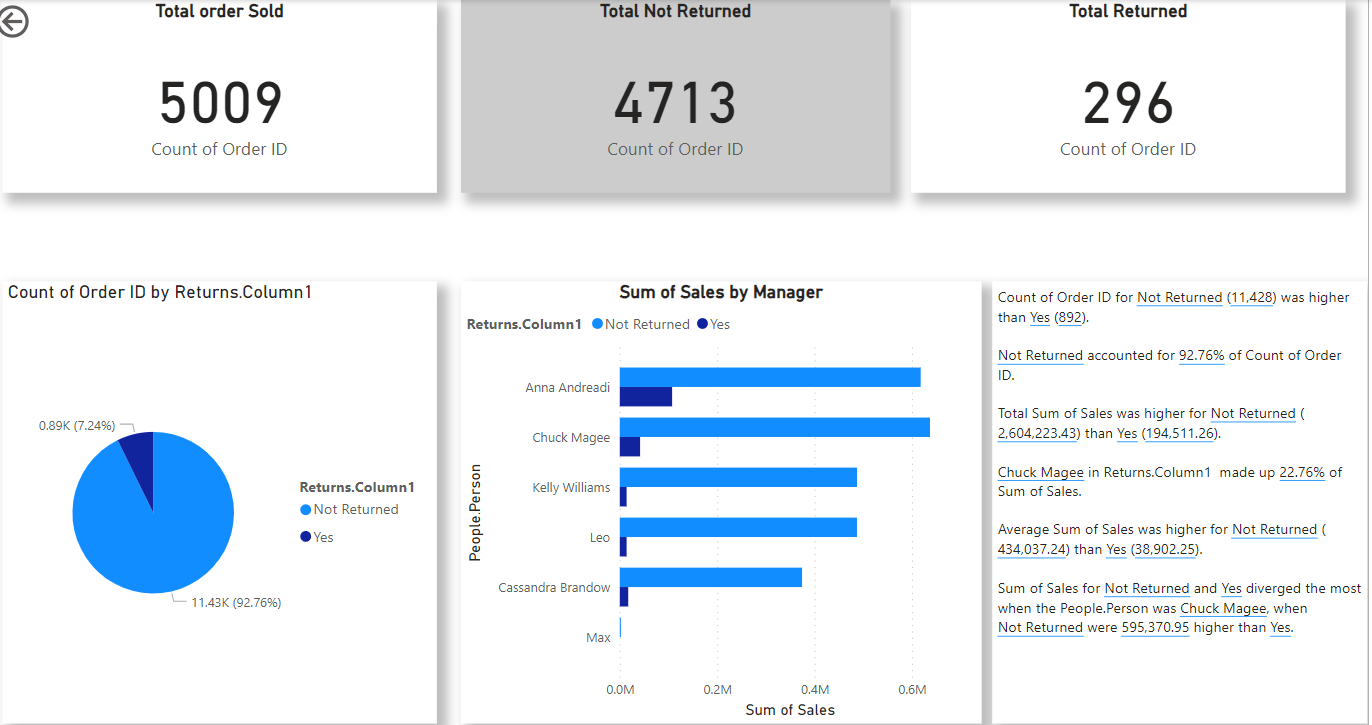

The page's visual inventory and layout, read from the dashboard file:
{"tool":"powerbi","page":{"name":"Page 3","canvas":[1280,720],"ordinal":2},"visuals":[{"type":"card","title":"Total order Sold","fields":{"Values":["Orders.Order ID"]},"box":[10,0,404.1,179.6],"z":0},{"type":"card","title":"Total Not Returned ","fields":{"Values":["Orders.Order ID"]},"box":[436.5,0,399.1,179.6],"z":1000},{"type":"actionButton","box":[0,0,100,40],"z":2000},{"type":"card","title":"Total Returned","fields":{"Values":["Orders.Order ID"]},"box":[855.5,0,404.1,179.6],"z":3000},{"type":"clusteredBarChart","title":"Sum of Sales by Manager","fields":{"Category":["Orders.People.Person"],"Y":["Orders.Sales"],"Series":["Orders.Returns.Column1"]},"box":[436.6,261.7,483.6,411.3],"z":4000},{"type":"pieChart","fields":{"Category":["Orders.Returns.Column1"],"Y":["Orders.Order ID"]},"box":[10,261.9,404.1,411.5],"z":4001},{"type":"textbox","box":[931.1,261.7,348.5,411.3],"z":4002}]}

Visuals, with their boxes on the page's 1280x720 design canvas (x1, y1, x2, y2). These are canvas units, not pixel positions in the 1372x725 screenshot, which may show the page scaled, cropped or inside an application window:
"Total order Sold" card: <box>10,0,414,180</box>
"Total Not Returned " card: <box>436,0,836,180</box>
actionButton: <box>0,0,100,40</box>
"Total Returned" card: <box>856,0,1260,180</box>
"Sum of Sales by Manager" clusteredBarChart: <box>437,262,920,673</box>
pieChart - Orders.Returns.Column1 x Orders.Order ID: <box>10,262,414,673</box>
textbox: <box>931,262,1280,673</box>
